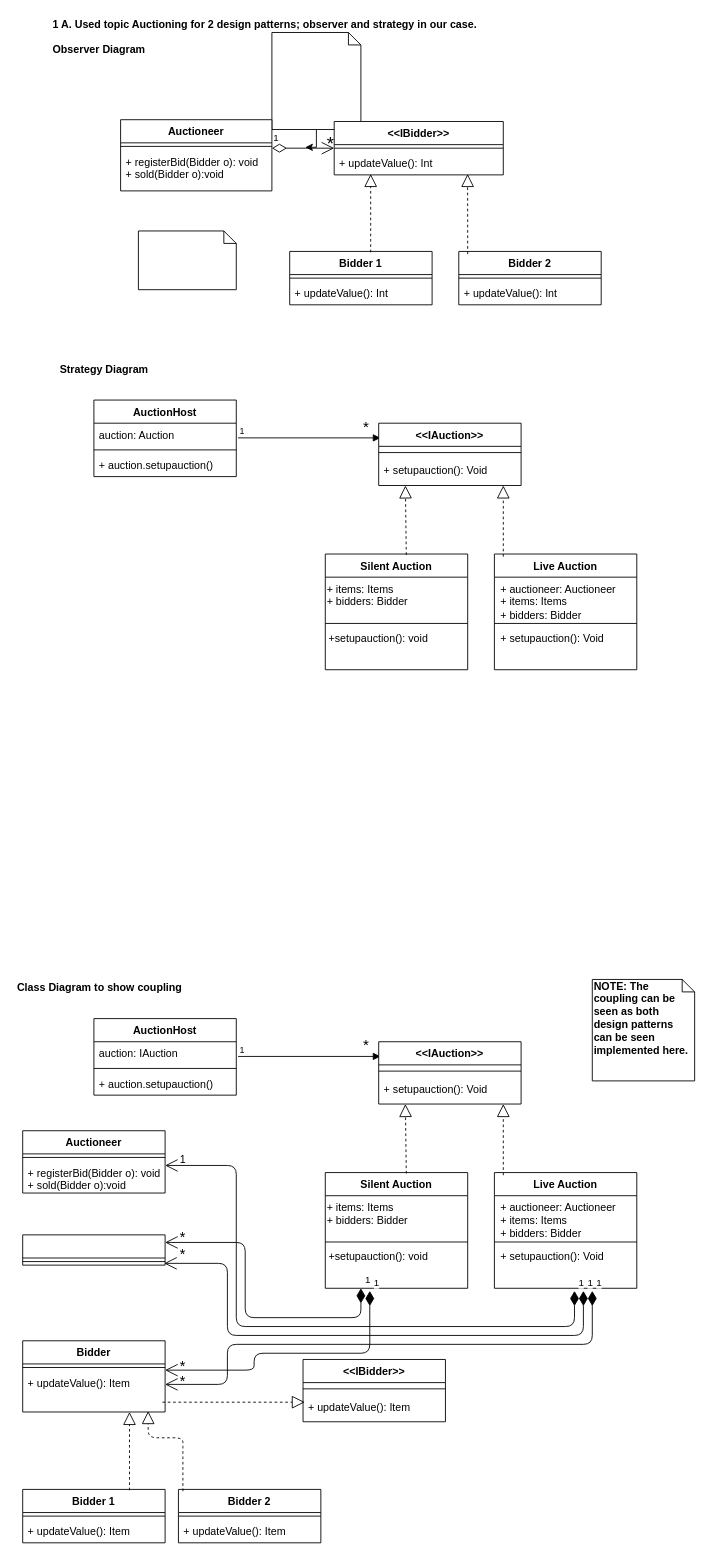
The diagram is 710 pixels wide and 1560 high, and some of its shapes have lost their labels. The shapes that lost their labels are listed below. From the top down, each one's centre as x and y in pixels, then its label:
At (x=316, y=80): "Can have, but probably wouldn't want to have an auctioneer without bidders".
At (x=187, y=260): "Auctioneer and Bidder classes participate in both class diagrams".
At (x=93, y=1249): "Item".
